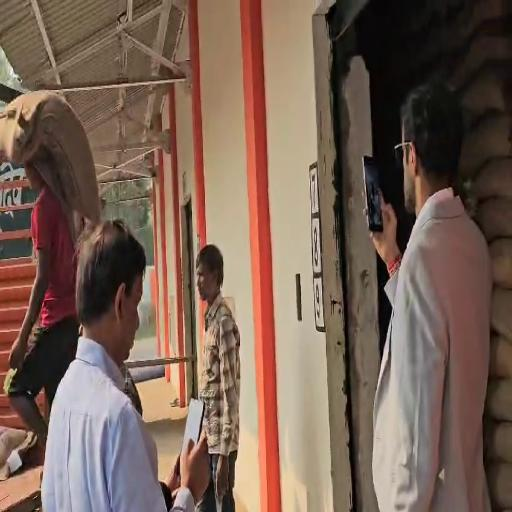bag: (0, 87, 102, 224)
